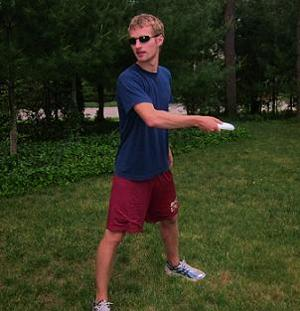person: (93, 13, 225, 311)
